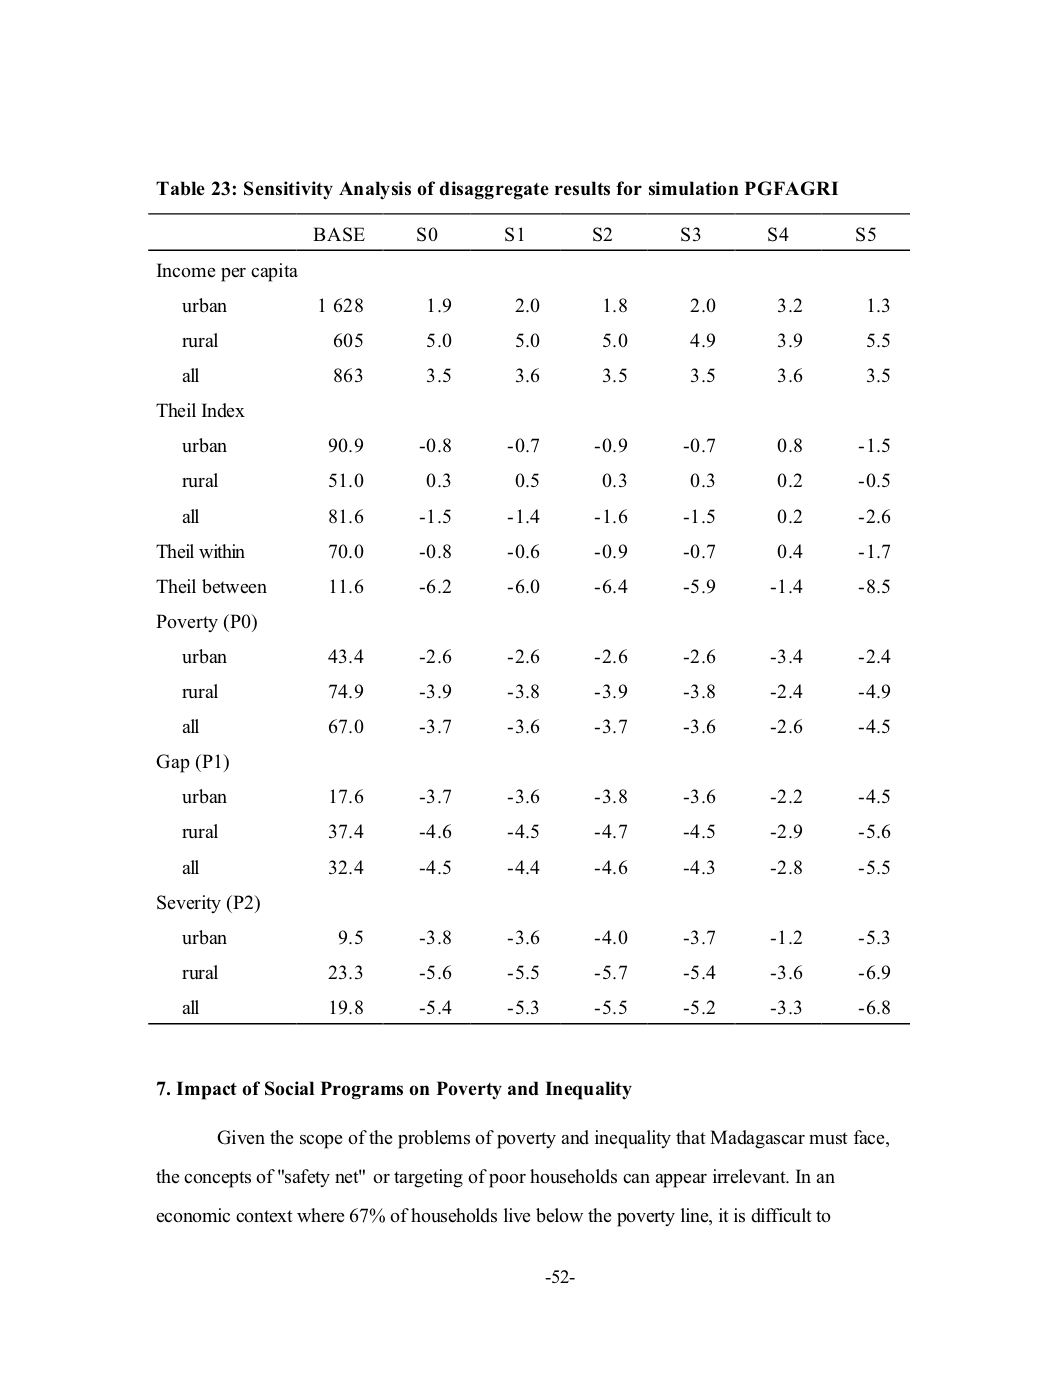Table: (148, 213, 909, 1024)
